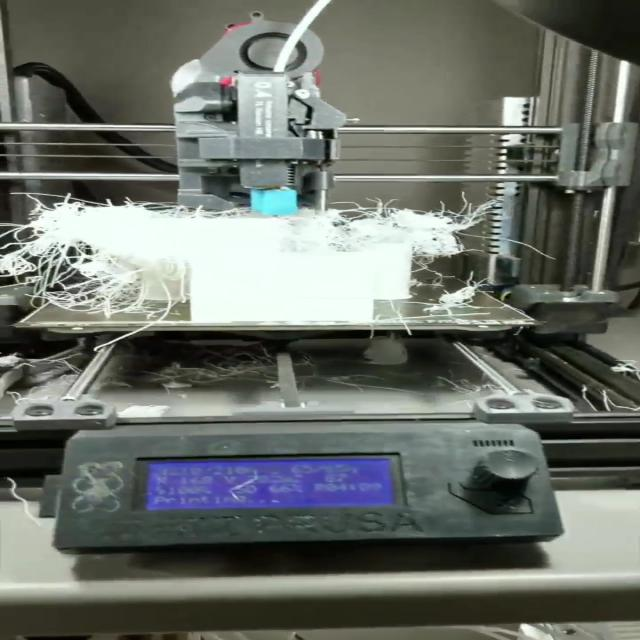spaghetti: (0, 190, 532, 334), (27, 347, 522, 408)
